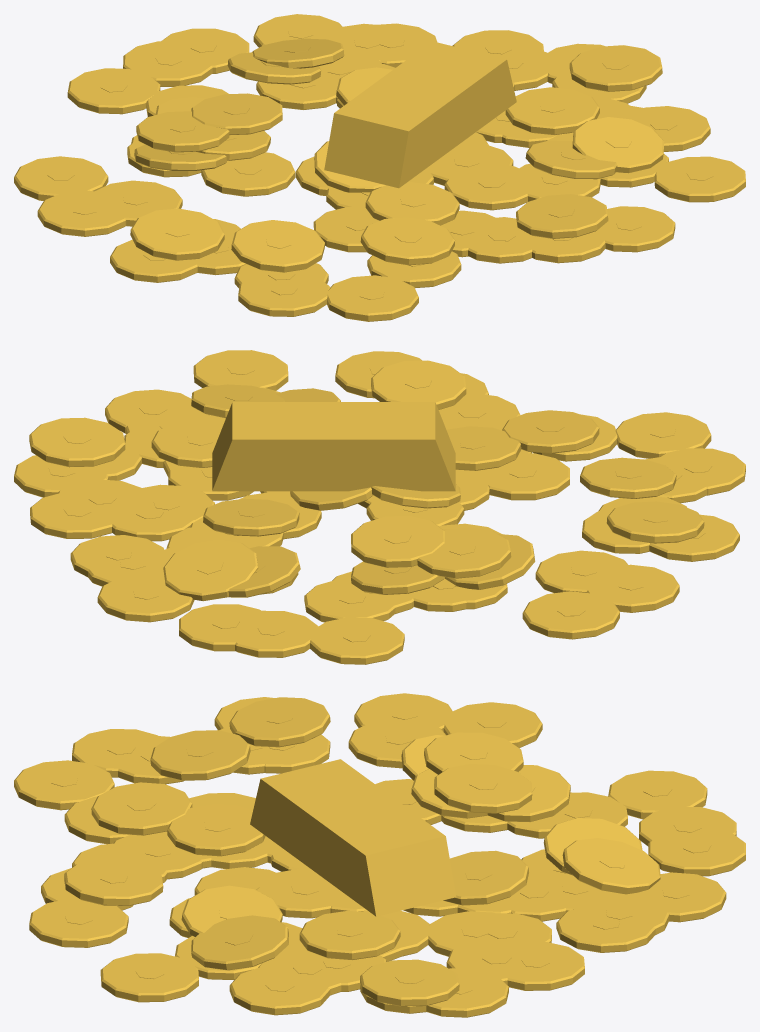
The model's file is gold_large.glb.
The picture shows the model from 3 angles, top to bottom: view 1: azimuth 30°, elevation 25°; view 2: azimuth 150°, elevation 25°; view 3: azimuth 270°, elevation 25°; orthographic projection. The views are drawn at different scales.
Visible parts, largest first — view 1: Gold_Large_Gold; view 2: Gold_Large_Gold; view 3: Gold_Large_Gold.
Part boxes in pixels (x1,y1,x2,y2): Gold_Large_Gold: (14, 14, 745, 321); Gold_Large_Gold: (14, 350, 745, 664); Gold_Large_Gold: (14, 693, 745, 1017).
Bounding box in the file's own units: 0.1807 × 0.0207 × 0.1739.
